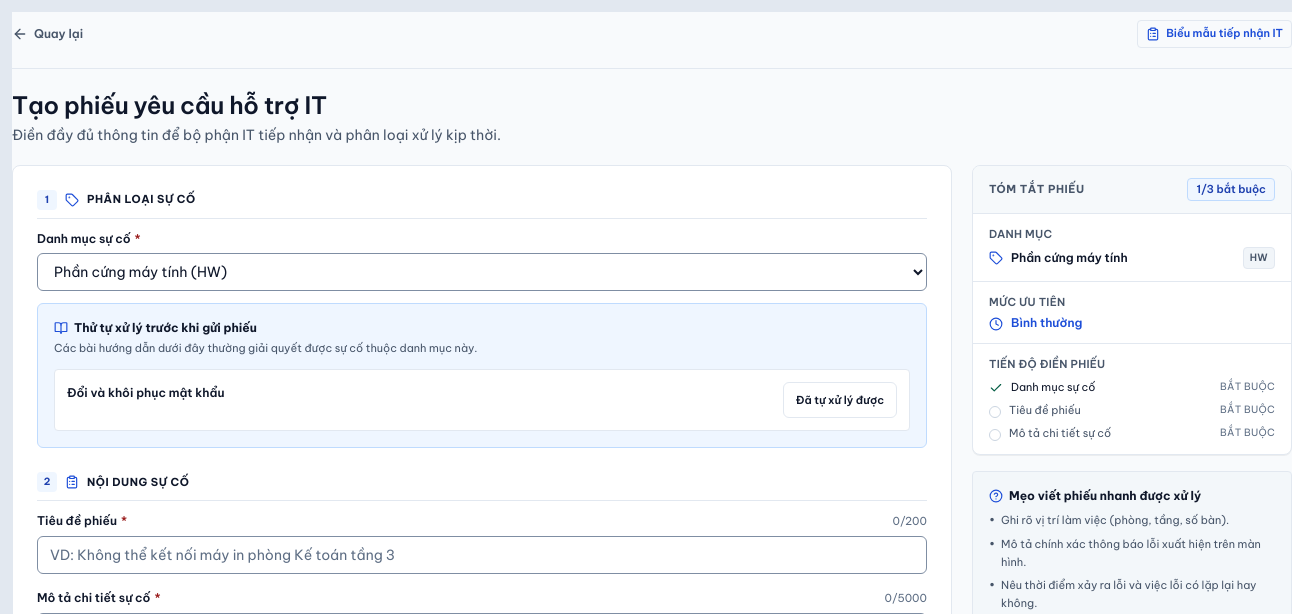
Scenario: W5-08 gợi ý bài Wiki và lượt tự phục vụ › hiện đúng bài theo danh mục đang chọn, liên kết mở Wiki ở tab mới
expect the text "Đổi và khôi phục mật khẩu" is shown: met, box [67,385,224,400]
Select "Mạng nội bộ (NET)" in the dropdown labelled "Danh mục sự cố *" at coordinates (482, 272), box [37,253,927,291]
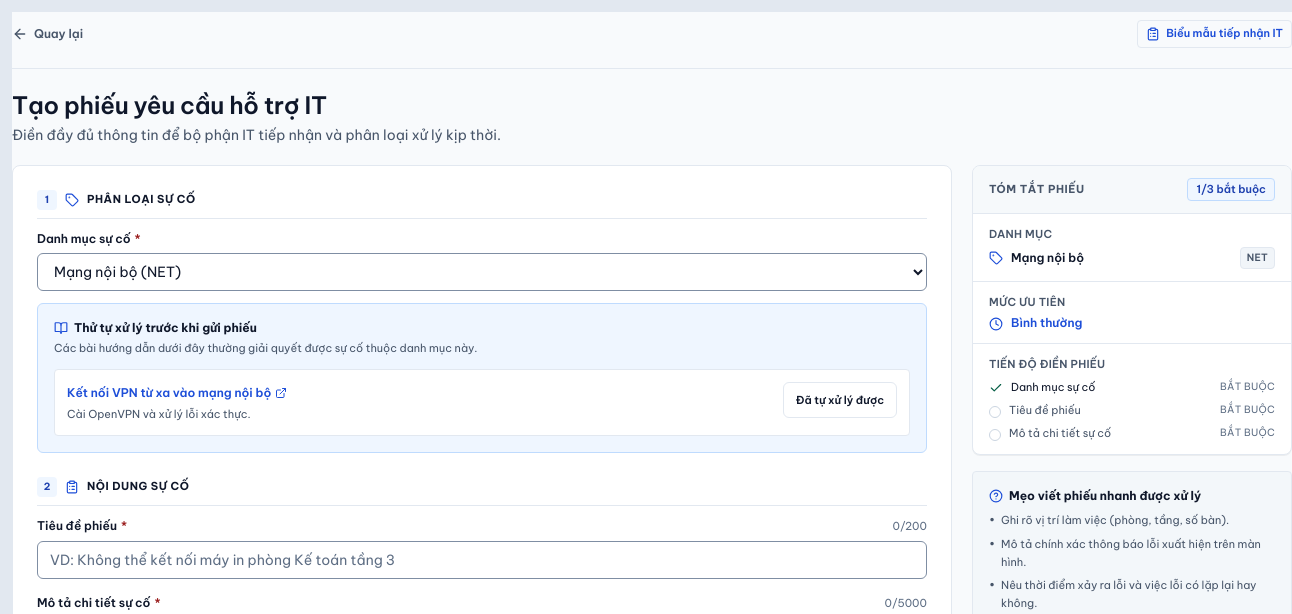
expect the text "Đổi và khôi phục mật khẩu" is gone: met
